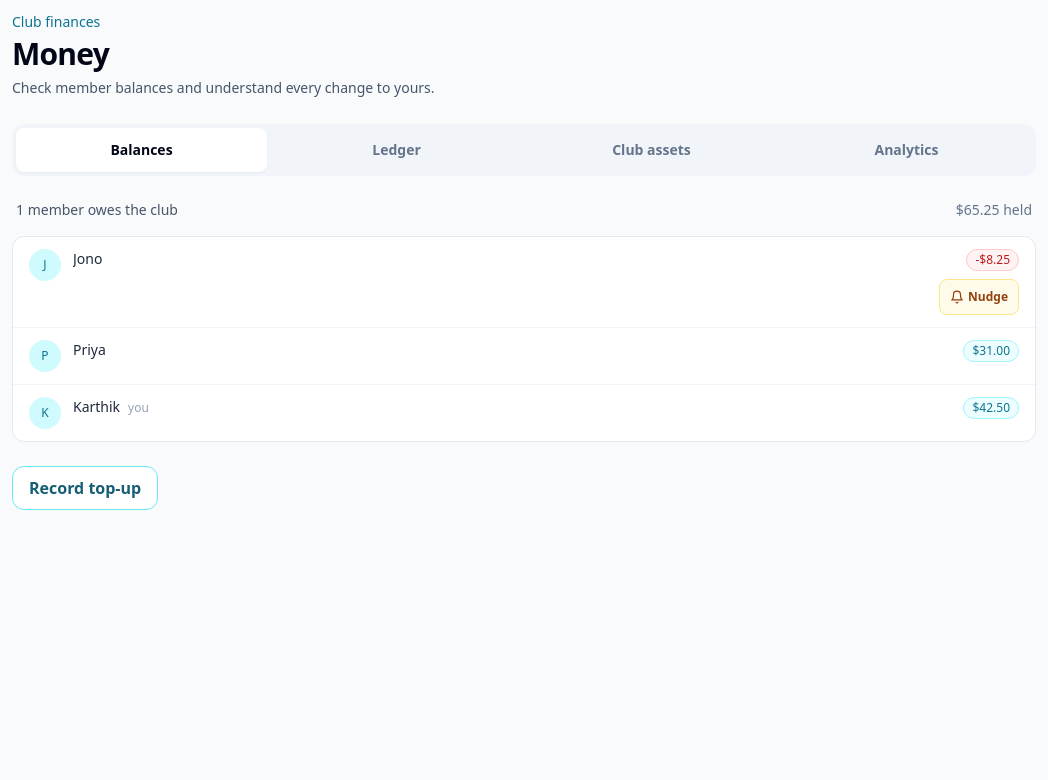
Money — club assets › shows the three places club money sits
Click the tab "Club assets" at (652, 150), box [526, 128, 777, 172]
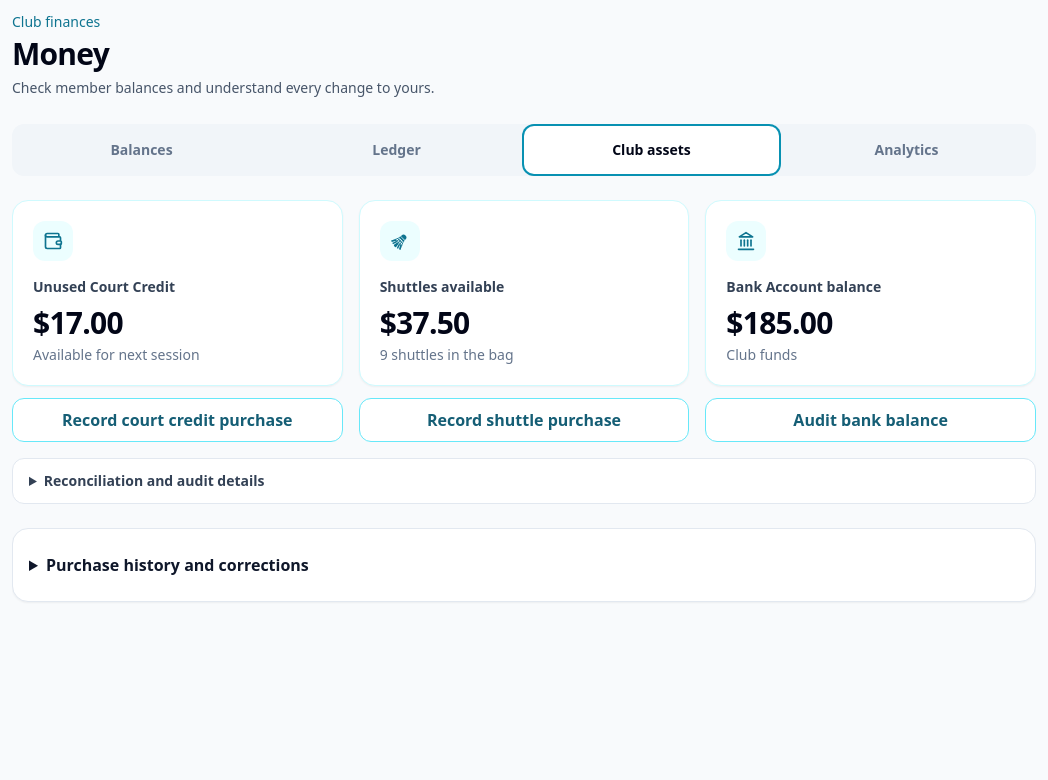
Expected: the heading "Bank Account balance" is shown, [726, 277, 881, 296]
Expected: the text "$185.00" is shown, [726, 302, 833, 343]
Expected: the heading "Unused Court Credit" is shown, [33, 277, 175, 296]
